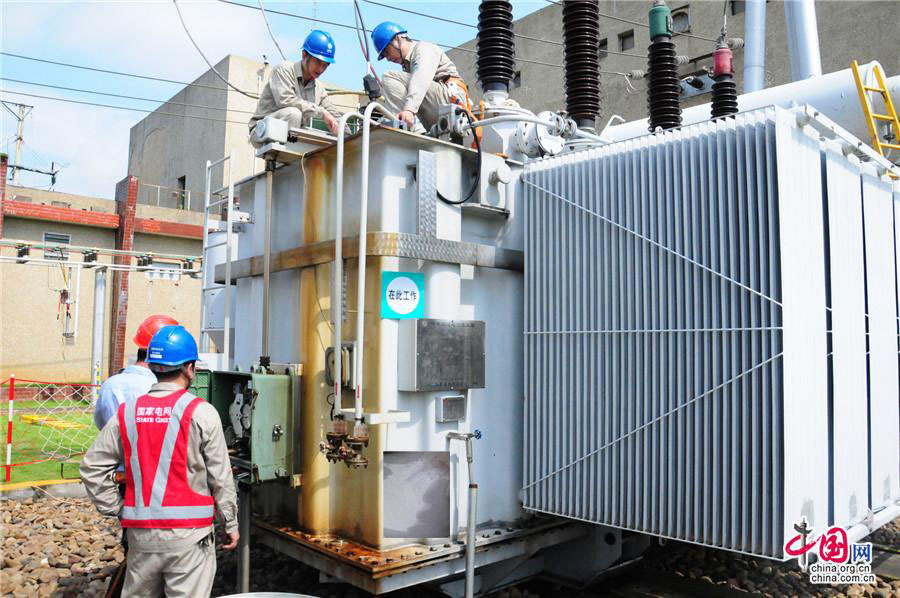oil: (387, 453, 449, 539)
